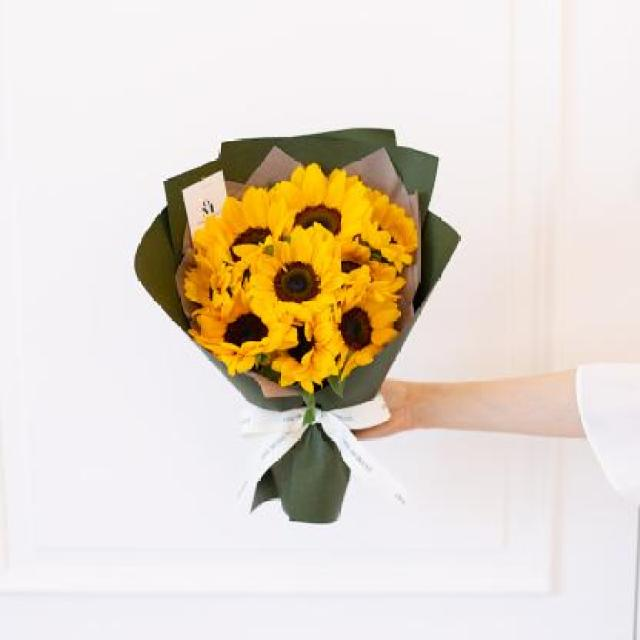sunflower: (250, 231, 345, 317), (328, 290, 396, 366), (198, 302, 300, 352)
